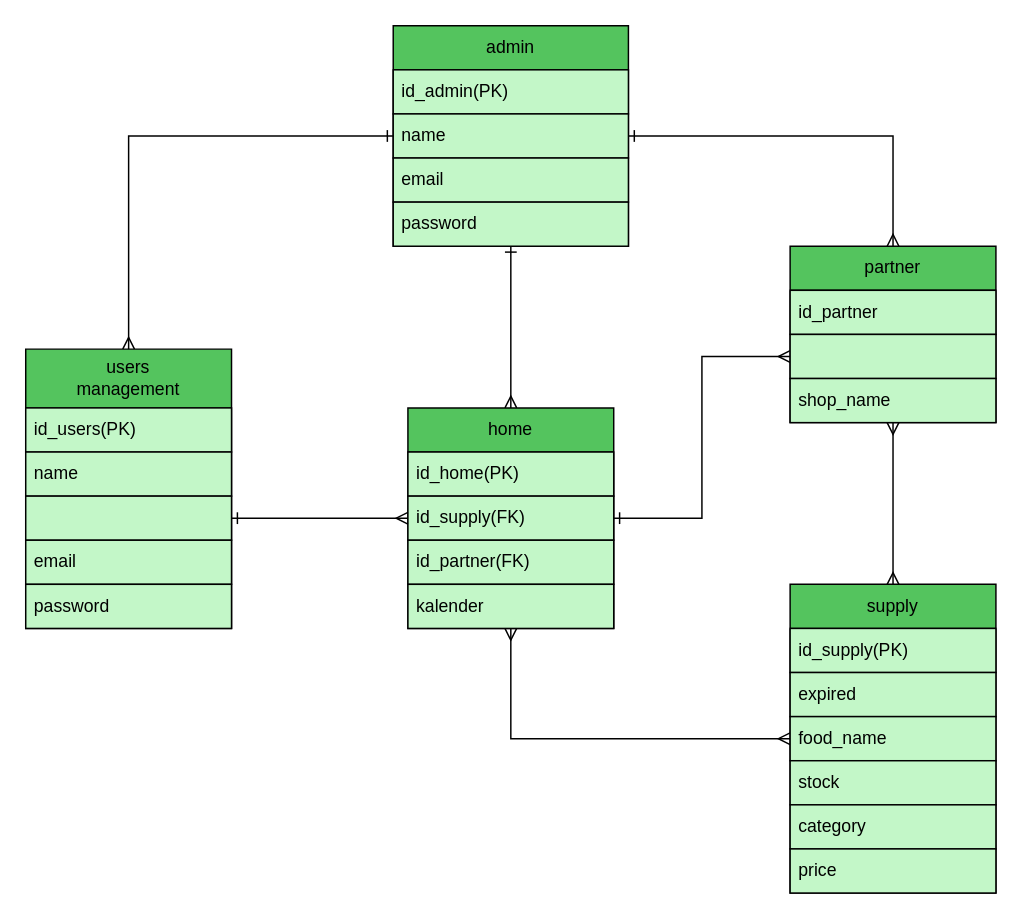
This 1022x919 diagram has some shape labels left out. Here are the shapes that lost their labels. From the top down, the centre of each, then its label:
At point (892, 356): "location".
At point (128, 517): "address".
